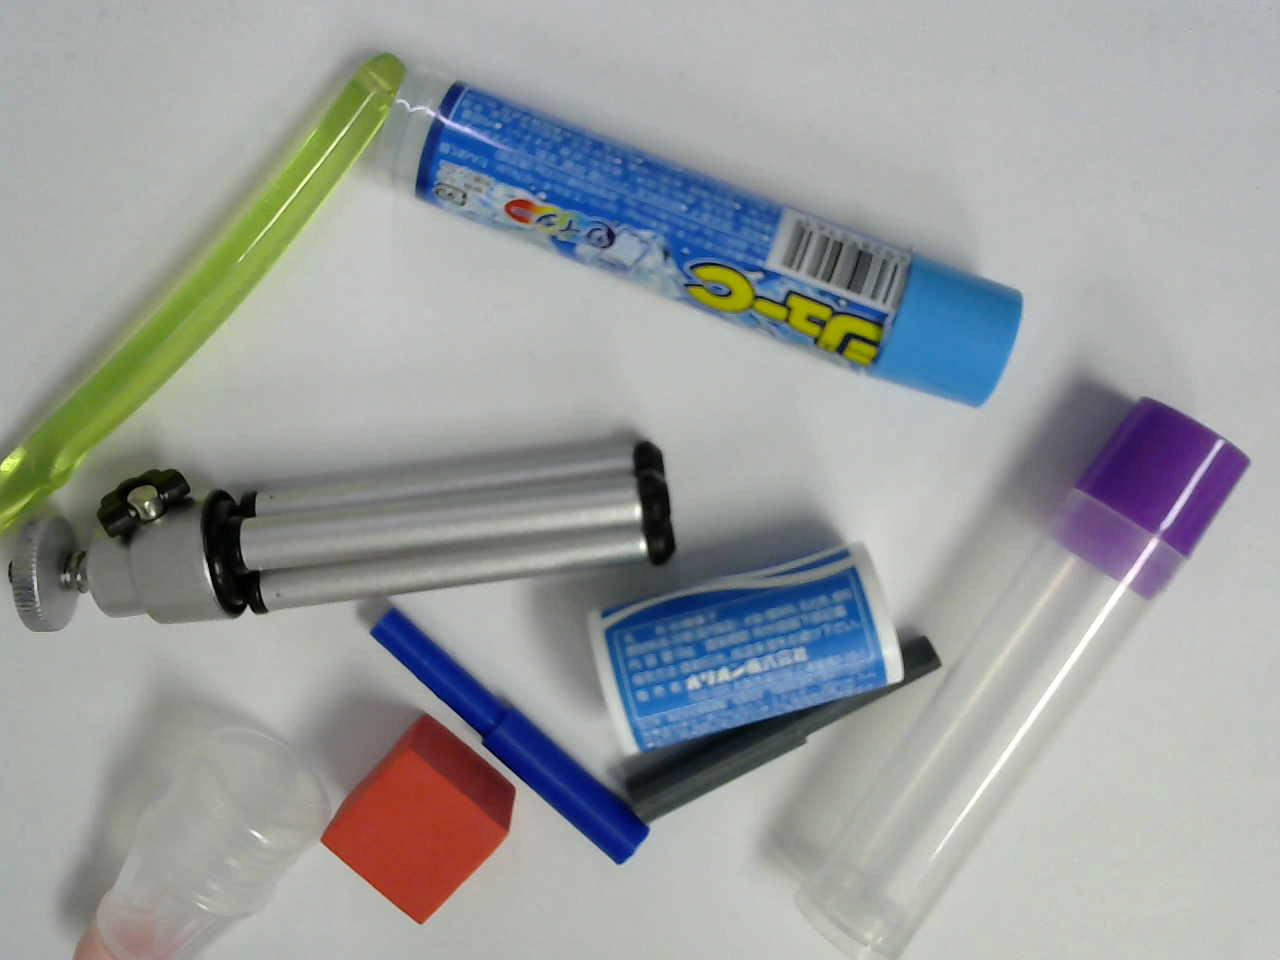block: (319, 713, 512, 927)
brush: (0, 52, 406, 533)
coke: (586, 542, 903, 758)
cup: (75, 721, 331, 958)
dai: (7, 440, 674, 634)
jyuc: (373, 61, 1023, 408)
jyuc_g: (794, 397, 1252, 958)
pen2: (371, 607, 652, 866)
pen_gray: (628, 634, 943, 821)
